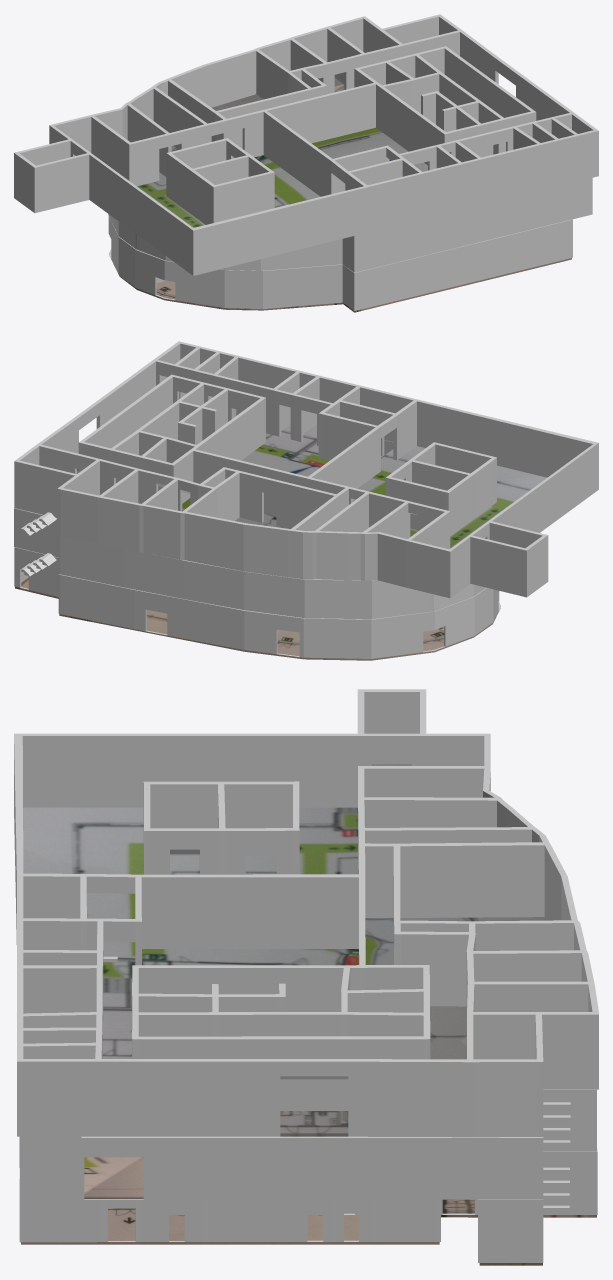
File: gbwit.FBX
3 views of the same model, one above another, from view 1: azimuth 30°, elevation 25°; view 2: azimuth 150°, elevation 25°; view 3: azimuth 270°, elevation 25° (orthographic). The views are drawn at different scales.
Parts seen in each view (by area): view 1: 3D_1BO_001, 3D_1BE_001, 3D_2BE_001, GROND3, GROND1; view 2: 3D_1BO_001, 3D_1BE_001, 3D_2BE_001, GROND3, GROND1; view 3: 3D_1BO_001, 3D_2BE_001, GROND3, 3D_1BE_001, GROND1, GROND2.
Boxes of the visible parts, x1=… form: 3D_1BO_001: x1=14, y1=14, x2=598, y2=275; 3D_1BE_001: x1=108, y1=216, x2=572, y2=310; 3D_2BE_001: x1=108, y1=178, x2=592, y2=272; GROND3: x1=137, y1=78, x2=427, y2=227; GROND1: x1=110, y1=253, x2=571, y2=312; 3D_1BO_001: x1=14, y1=341, x2=598, y2=598; 3D_1BE_001: x1=14, y1=547, x2=500, y2=658; 3D_2BE_001: x1=14, y1=440, x2=485, y2=619; GROND3: x1=77, y1=409, x2=546, y2=548; GROND1: x1=15, y1=577, x2=500, y2=660; 3D_1BO_001: x1=14, y1=689, x2=598, y2=1137; 3D_2BE_001: x1=20, y1=1089, x2=596, y2=1199; GROND3: x1=23, y1=764, x2=546, y2=1136; 3D_1BE_001: x1=19, y1=1136, x2=597, y2=1262; GROND1: x1=21, y1=1199, x2=596, y2=1265; GROND2: x1=84, y1=1157, x2=143, y2=1198.
Bounding box in the file's own units: 54938 × 14013 × 36429.
3 materials, 3 textured.
